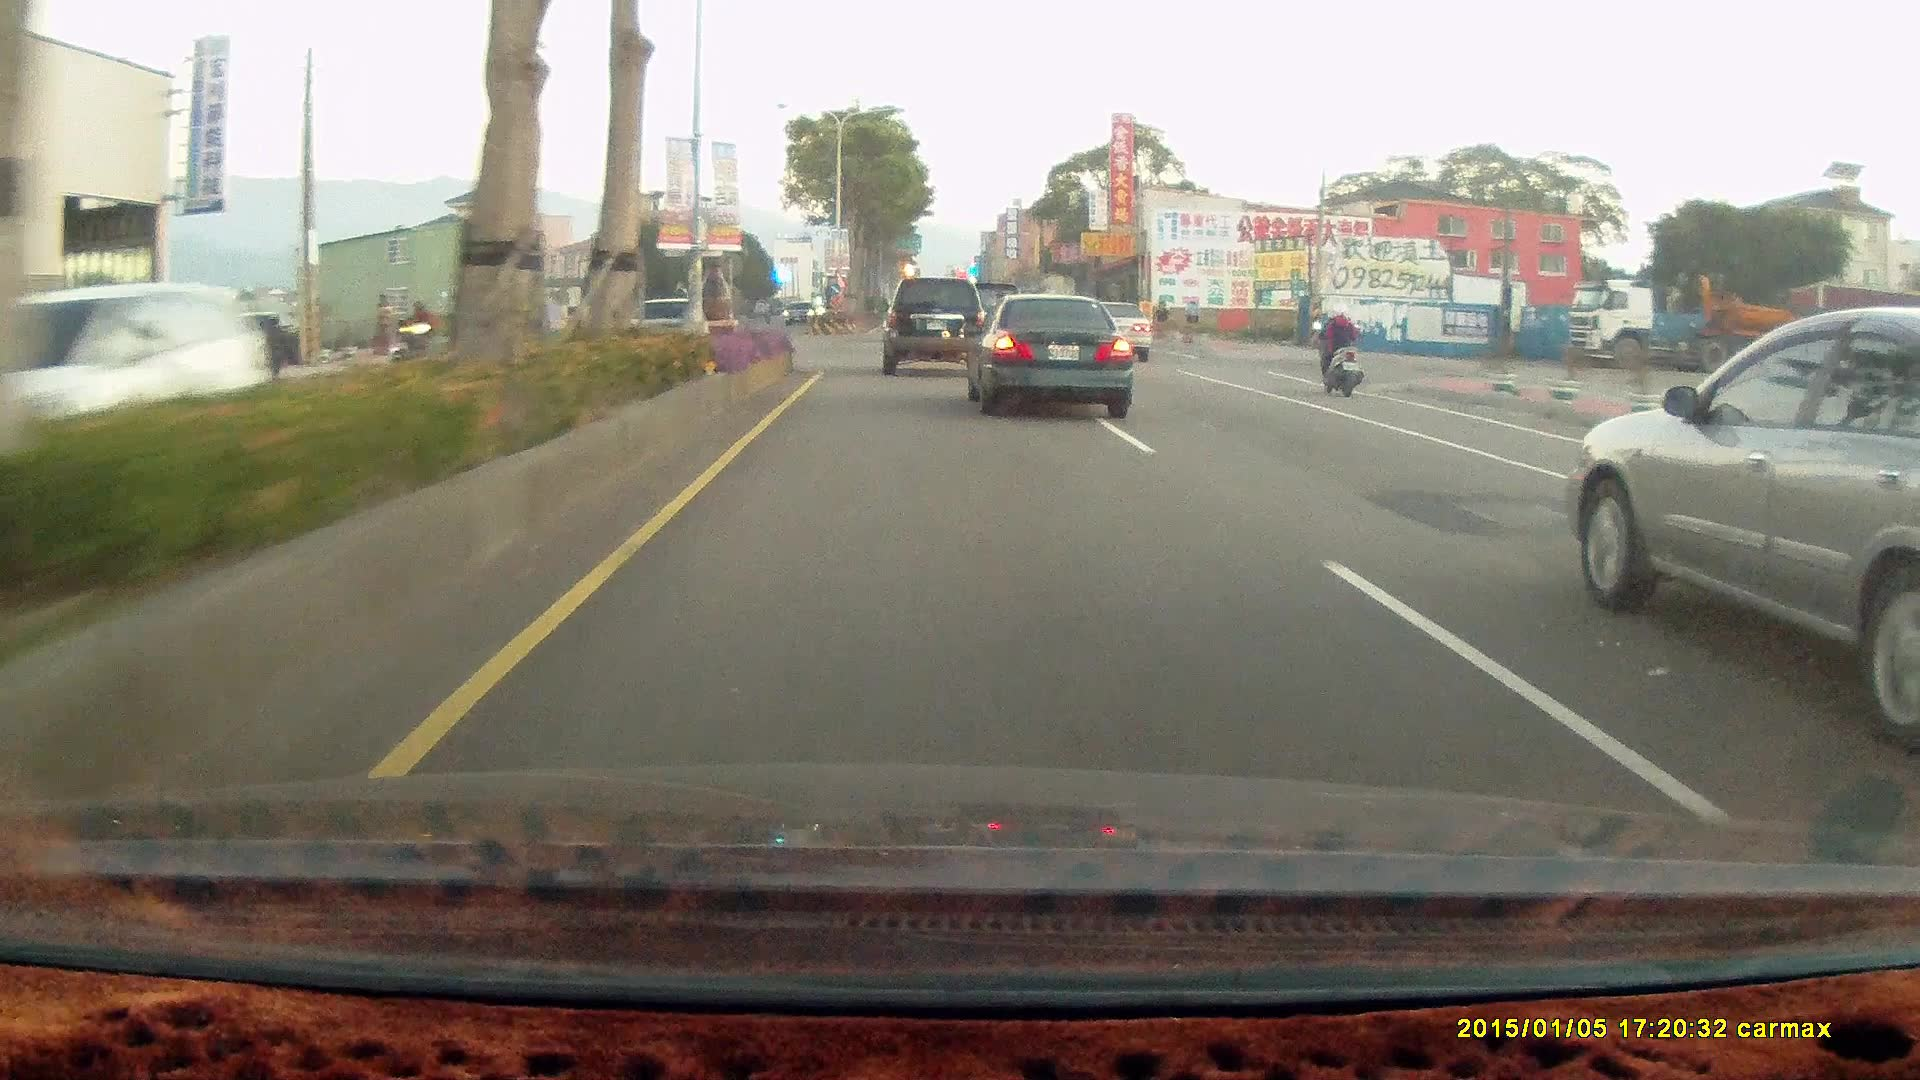pedestrian: (260, 315, 286, 381)
rider: (1305, 295, 1373, 404), (1310, 292, 1366, 388), (393, 297, 444, 374)
vehicle: (1563, 307, 1920, 745), (0, 281, 259, 490), (39, 281, 262, 490), (1564, 273, 1920, 372), (958, 288, 1129, 413), (970, 292, 1137, 414), (880, 274, 990, 374), (879, 276, 984, 377), (620, 296, 713, 360), (1075, 299, 1156, 365), (780, 300, 816, 324)
